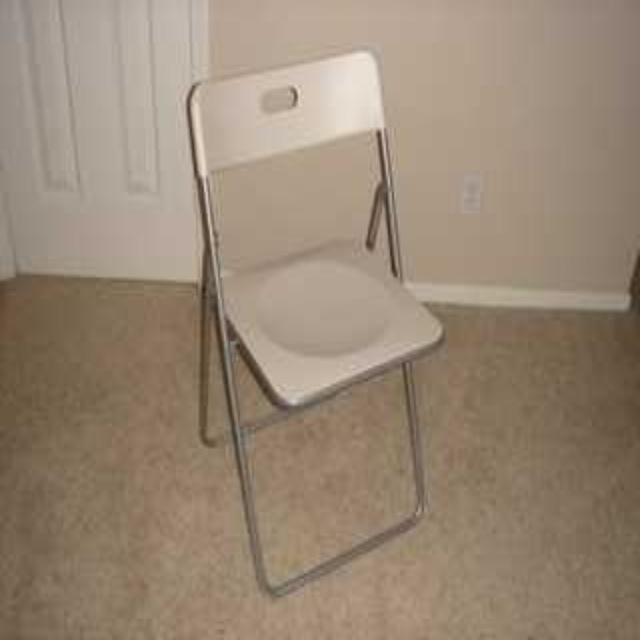obstacle: (188, 48, 442, 592)
